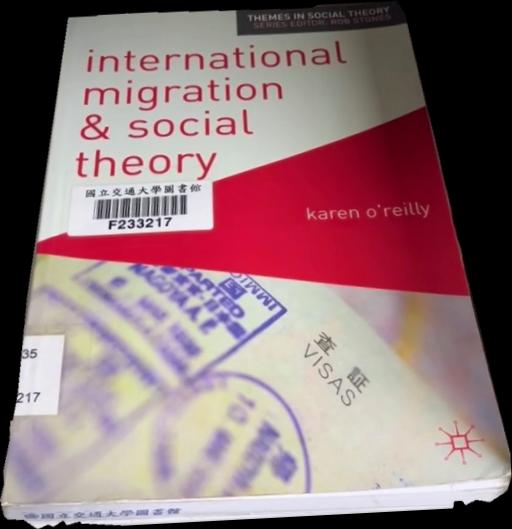flat: (1, 1, 512, 529)
